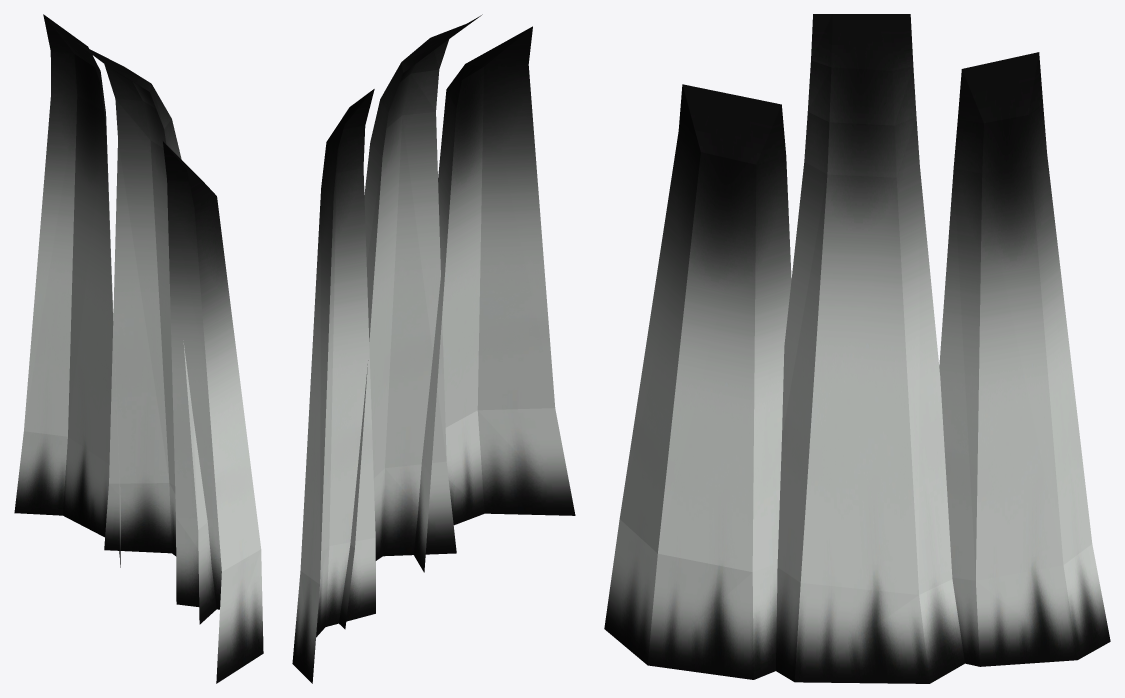
File: waterfall_short_spalsh_01.fbx
3 renders of one model, left to right at view 1: azimuth 30°, elevation 25°; view 2: azimuth 150°, elevation 25°; view 3: azimuth 270°, elevation 25°, orthographic. The views are drawn at different scales.
Parts seen in each view (by area): view 1: obj0.191; view 2: obj0.191; view 3: obj0.191.
Boxes of the visible parts, x1=… form: obj0.191: x1=14, y1=14, x2=263, y2=683; obj0.191: x1=292, y1=14, x2=575, y2=683; obj0.191: x1=604, y1=14, x2=1110, y2=683.
Bounding box in the file's own units: 1.78 × 8.71 × 6.53.
